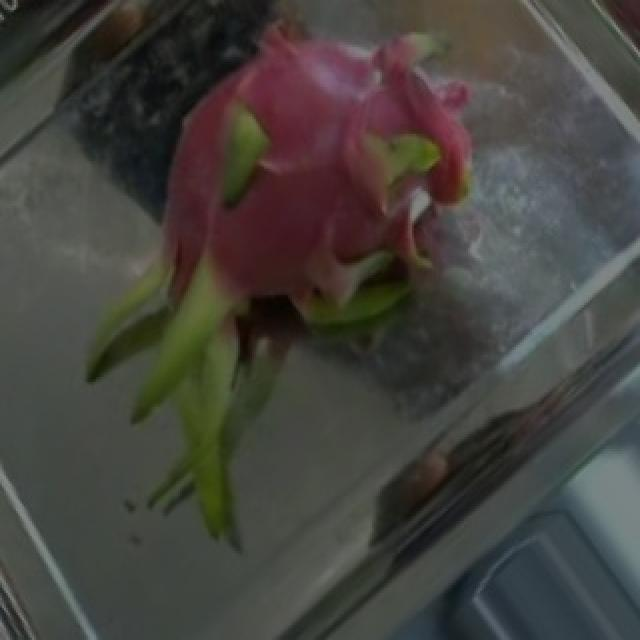fruit: (138, 0, 558, 429), (6, 3, 338, 434)
